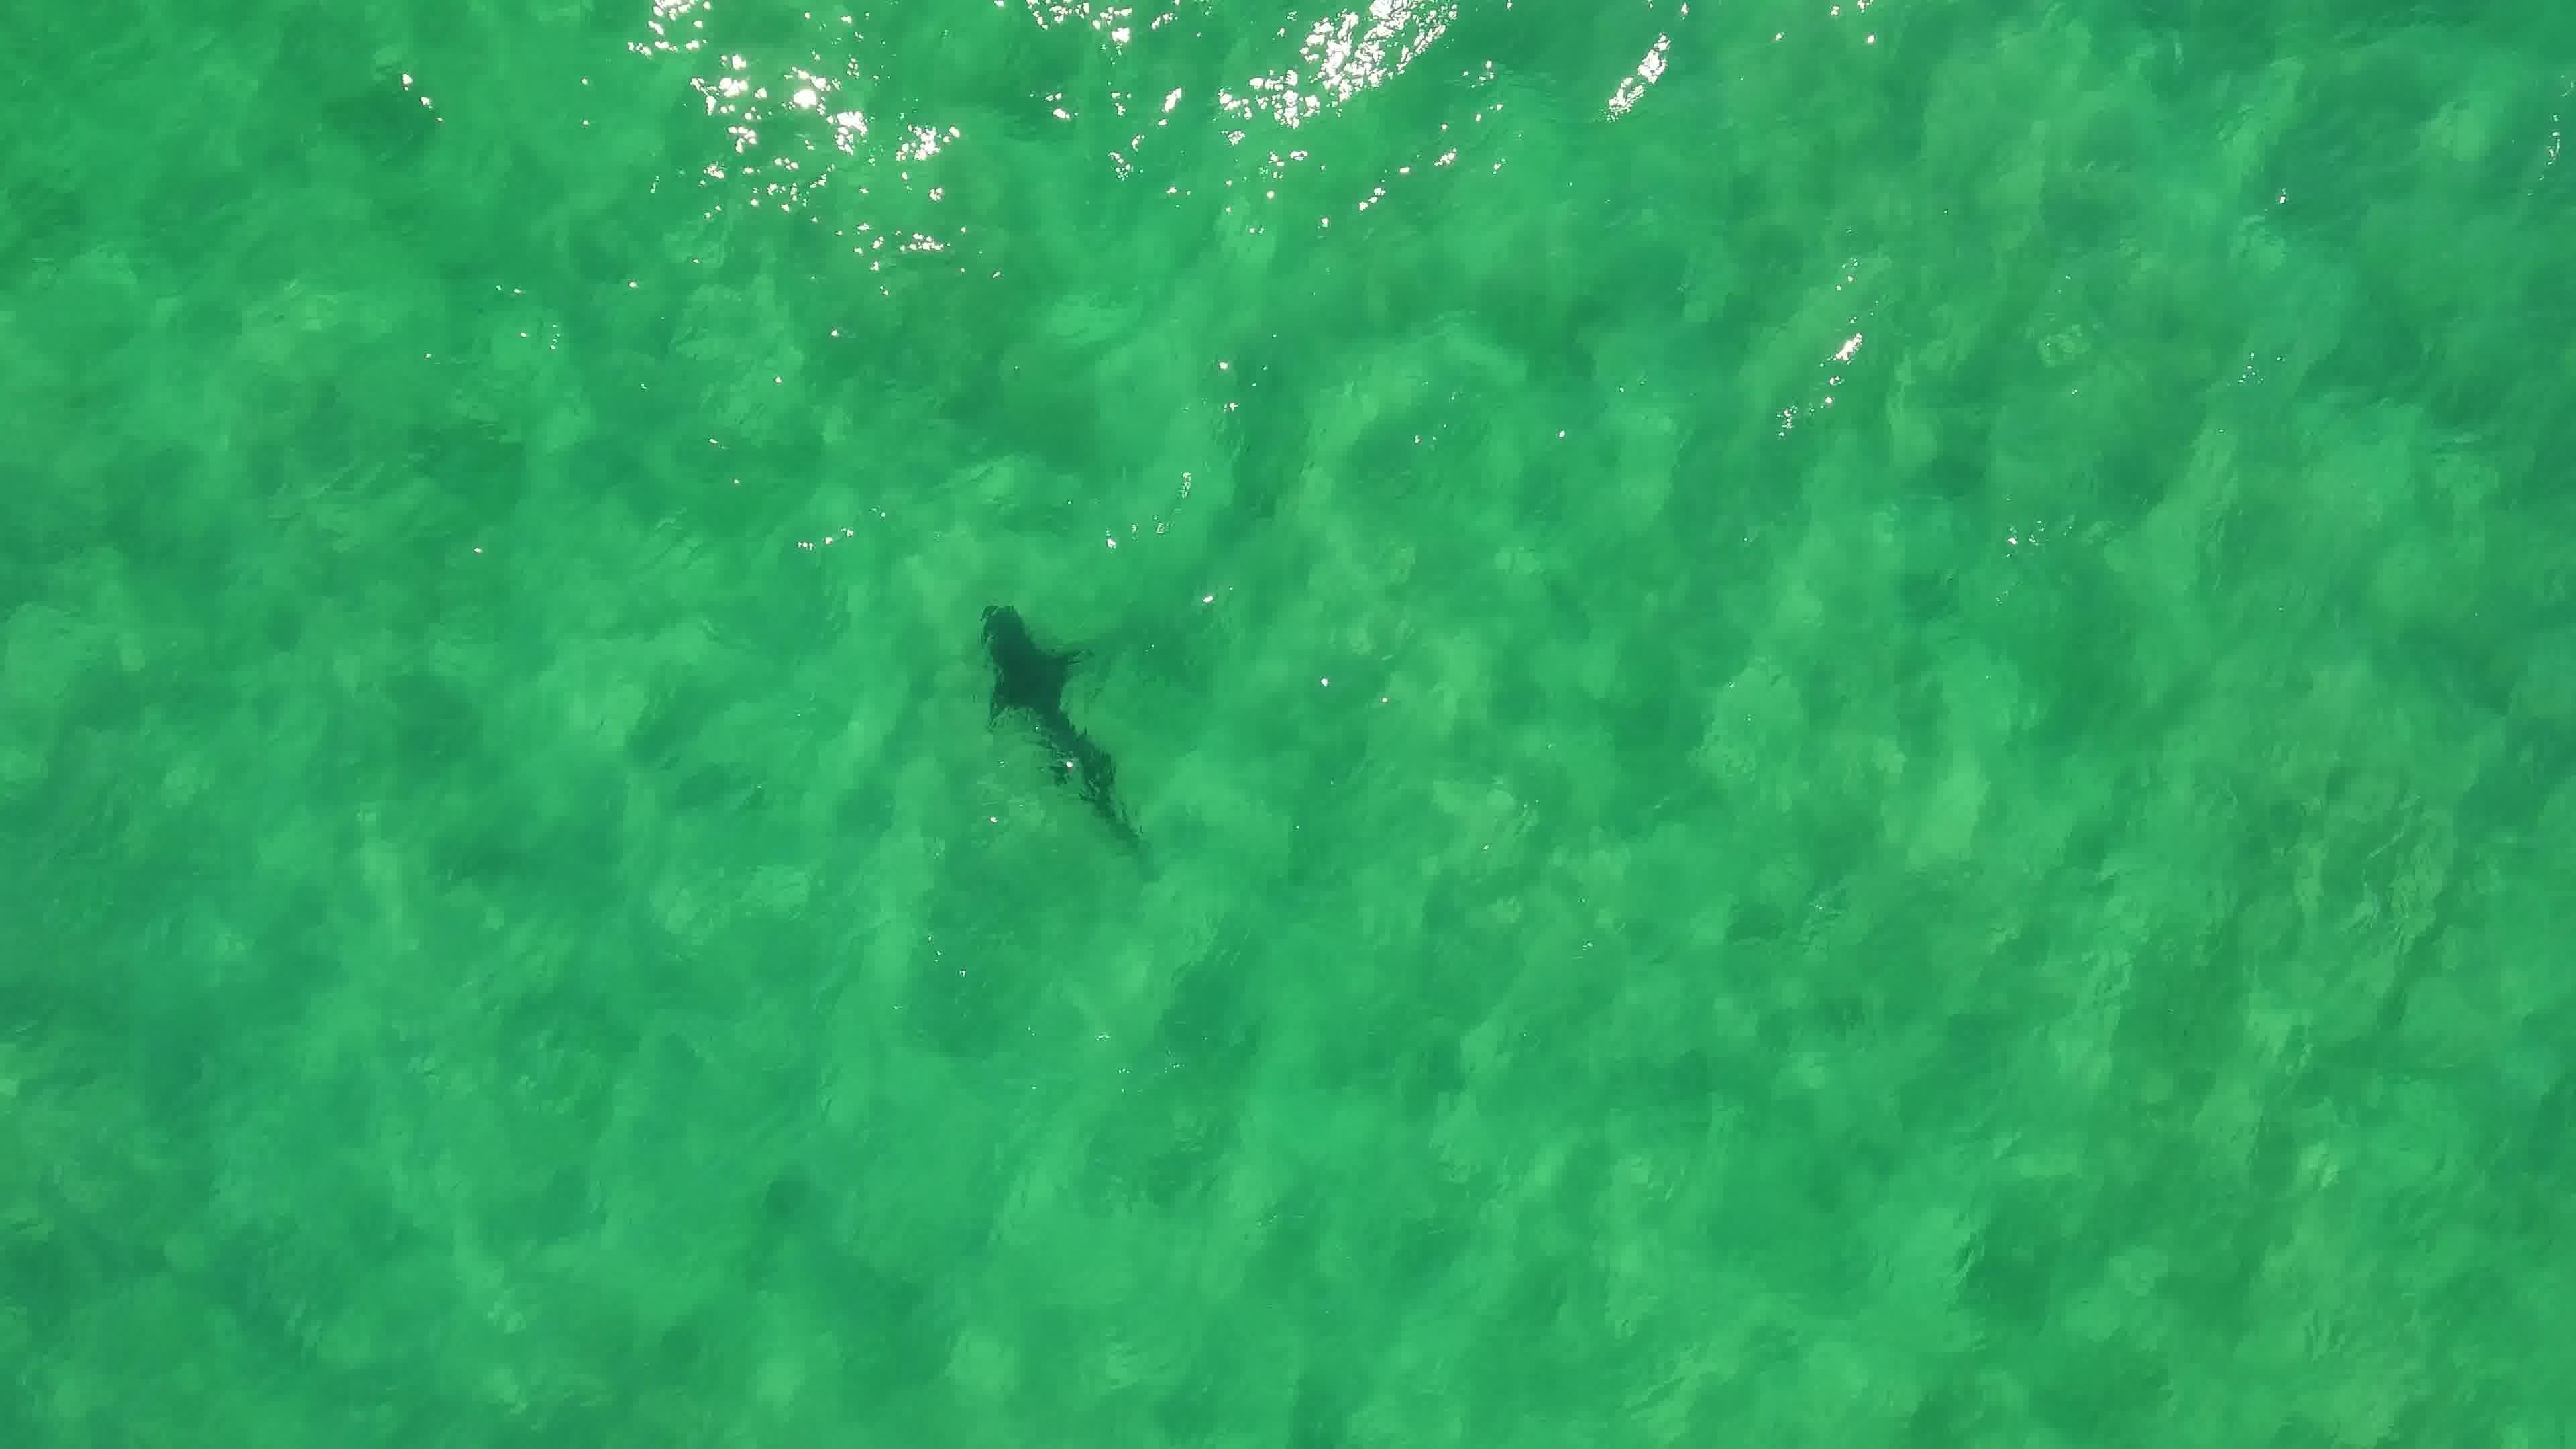shark: (970, 596, 1154, 847)
